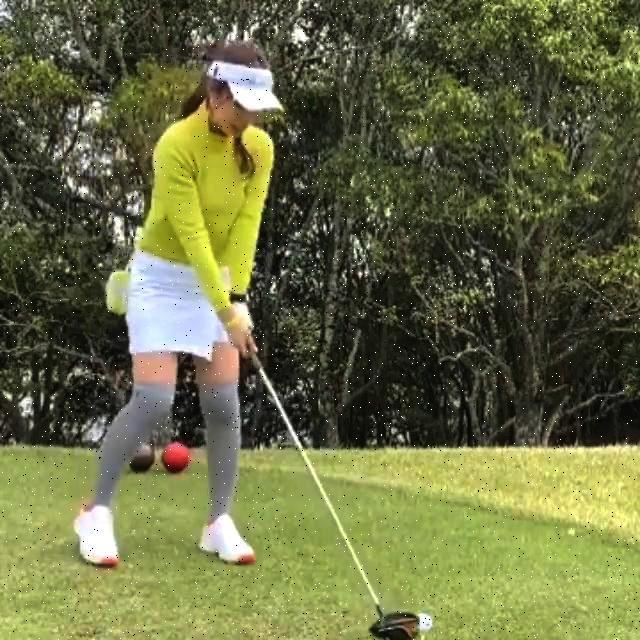ClubHead: (370, 614, 418, 640)
GolfBall: (419, 614, 431, 631)
